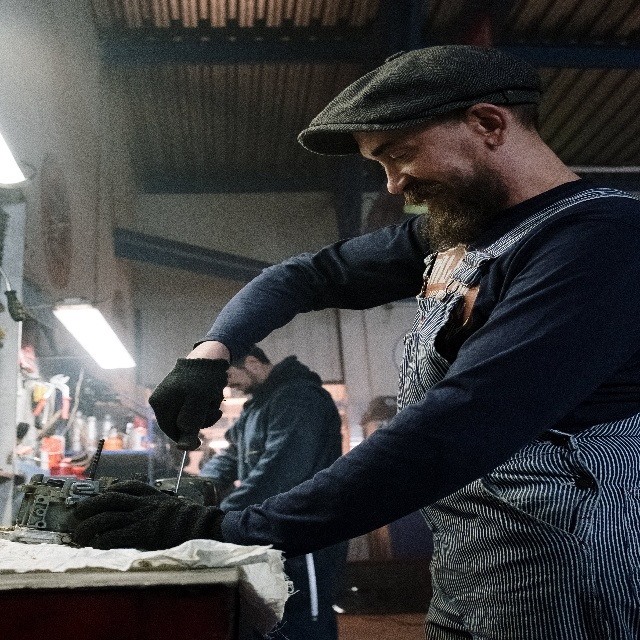Guantes: (70, 478, 224, 552), (148, 356, 231, 450)
